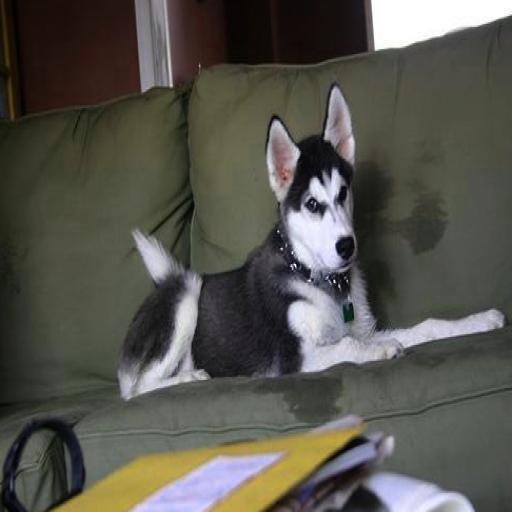dog_face: (265, 82, 358, 274)
